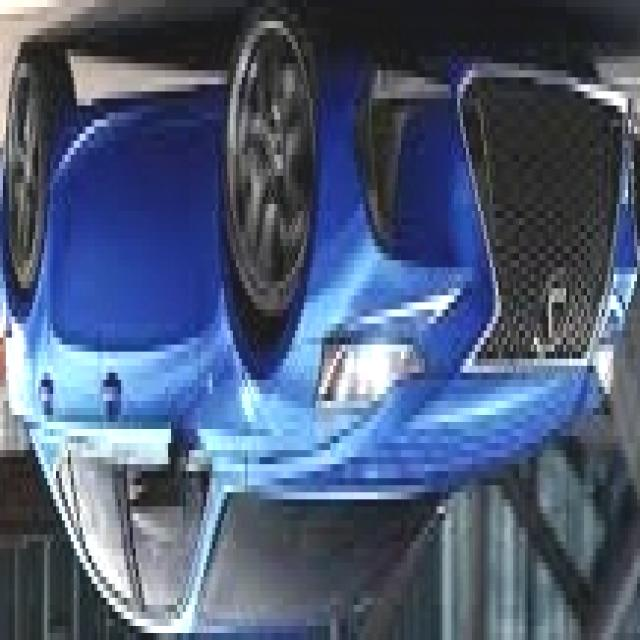blue: (5, 0, 626, 640)
